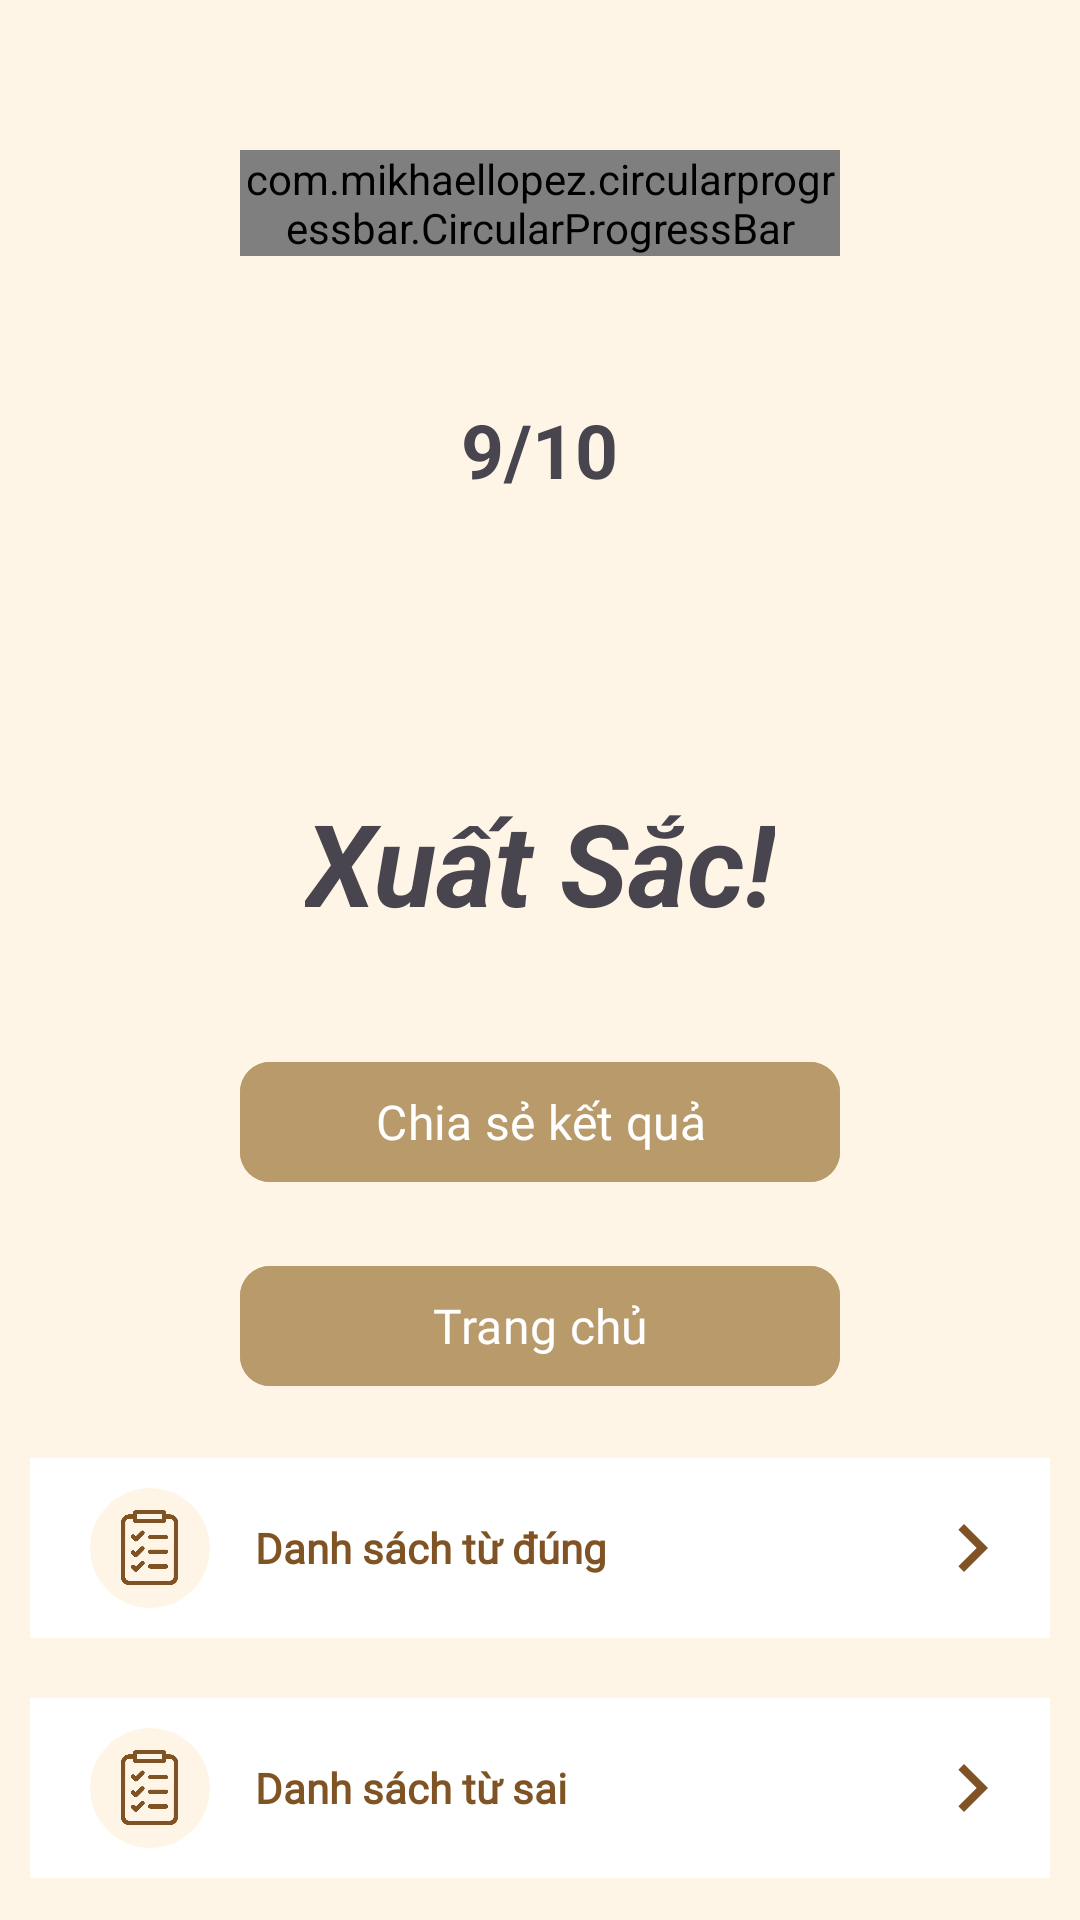

Where to tap for icons on this 1080 × 1920 app screen, as (x,y):
list: (149,1547), (149,1787)
navigate next: (973,1548), (973,1788)
